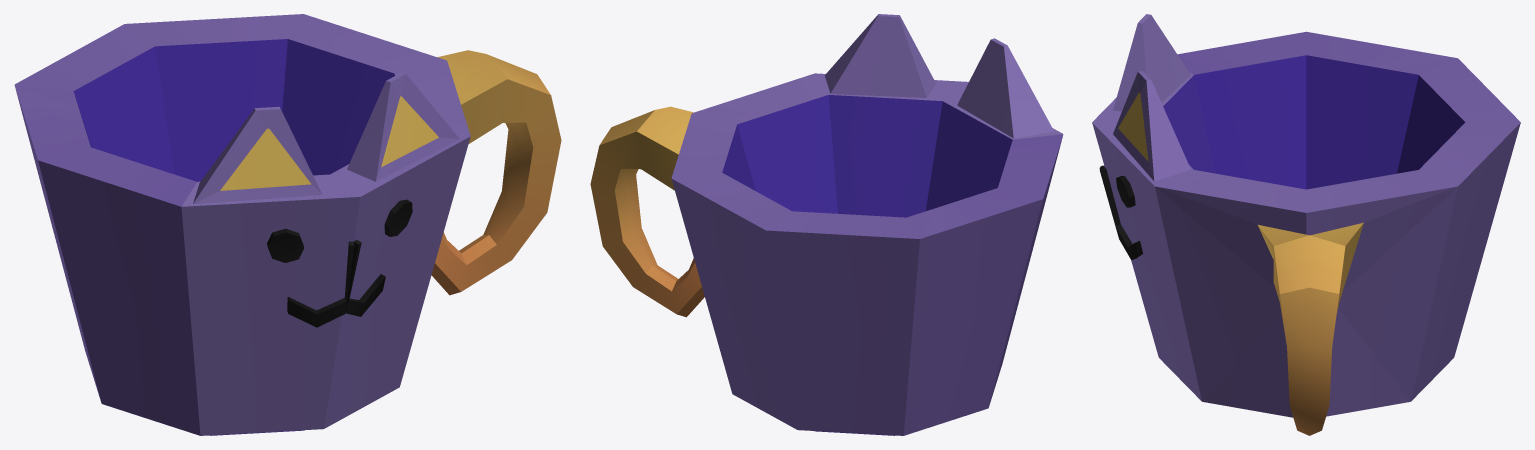
The model's file is sp_cup_coffee_a.fbx.
3 views of the same model, side by side, from view 1: azimuth 30°, elevation 25°; view 2: azimuth 150°, elevation 25°; view 3: azimuth 270°, elevation 25° (orthographic). The views are drawn at different scales.
Parts seen in each view (by area): view 1: sp_cup_coffee_a; view 2: sp_cup_coffee_a; view 3: sp_cup_coffee_a.
Part boxes in pixels (x1,y1,x2,y2): sp_cup_coffee_a: [14, 14, 561, 435]; sp_cup_coffee_a: [590, 14, 1063, 435]; sp_cup_coffee_a: [1092, 14, 1520, 435].
Bounding box in the file's own units: 37.73 × 24.98 × 29.89.
